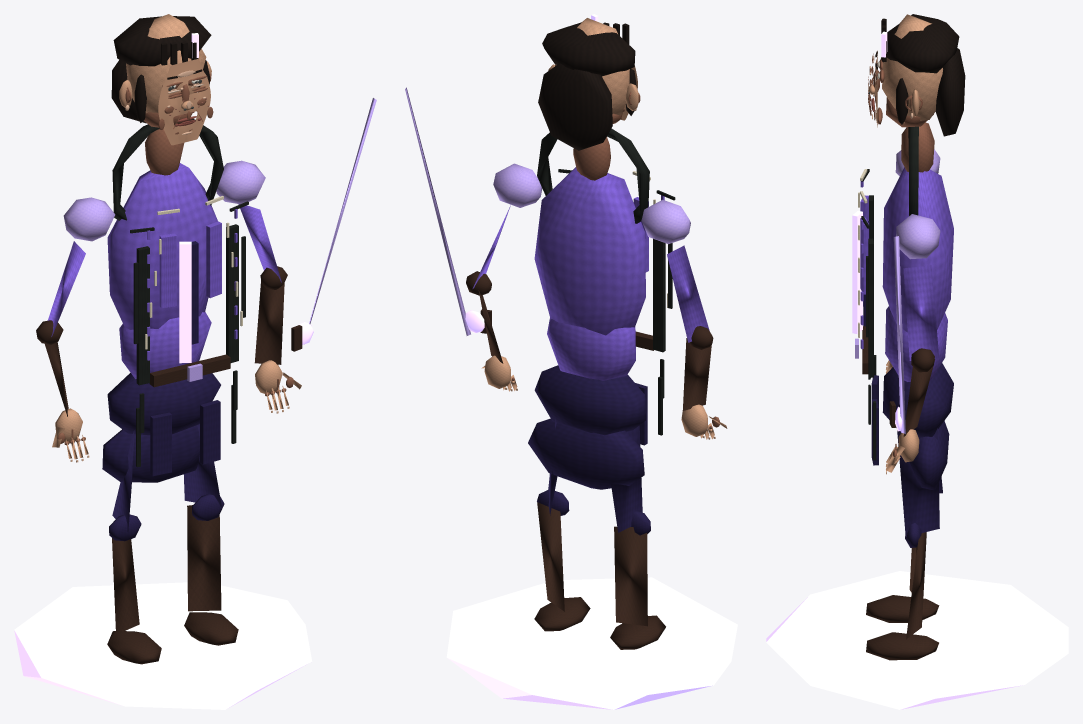
The model's file is violet-duelist-lod1.glb.
The picture shows the model from 3 angles, left to right: view 1: azimuth 30°, elevation 25°; view 2: azimuth 150°, elevation 25°; view 3: azimuth 270°, elevation 25°; orthographic projection.
Parts seen in each view (by area): view 1: violet-duelist_table_scale_base_lod1, violet-duelist_ribcage_lod1, violet-duelist_pelvis_lod1, violet-duelist_coat_tail_lod1, violet-duelist_right_shin_lod1, violet-duelist_abdomen_lod1, violet-duelist_hair_cap_lod1, violet-duelist_face_sculpt_surface_lod1, violet-duelist_head_lod1, violet-duelist_left_shin_lod1, violet-duelist_raised_collar_lod1, violet-duelist_right_forearm_lod1 (+25 smaller); view 2: violet-duelist_table_scale_base_lod1, violet-duelist_ribcage_lod1, violet-duelist_coat_tail_lod1, violet-duelist_pelvis_lod1, violet-duelist_back_hair_mass_lod1, violet-duelist_abdomen_lod1, violet-duelist_hair_cap_lod1, violet-duelist_left_shin_lod1, violet-duelist_right_shin_lod1, violet-duelist_left_upper_arm_lod1, violet-duelist_raised_collar_lod1, violet-duelist_left_shoulder_lod1 (+11 smaller); view 3: violet-duelist_table_scale_base_lod1, violet-duelist_ribcage_lod1, violet-duelist_hair_cap_lod1, violet-duelist_right_upper_arm_lod1, violet-duelist_pelvis_lod1, violet-duelist_head_lod1, violet-duelist_right_thigh_lod1, violet-duelist_back_hair_mass_lod1, violet-duelist_coat_tail_lod1, violet-duelist_right_boot_lod1, violet-duelist_right_shoulder_lod1, violet-duelist_abdomen_lod1 (+9 smaller).
Boxes of the visible parts, bbox=[...] form: violet-duelist_table_scale_base_lod1: bbox=[14, 582, 312, 709]; violet-duelist_ribcage_lod1: bbox=[107, 163, 217, 329]; violet-duelist_pelvis_lod1: bbox=[107, 373, 220, 435]; violet-duelist_coat_tail_lod1: bbox=[102, 425, 199, 482]; violet-duelist_right_shin_lod1: bbox=[187, 505, 221, 611]; violet-duelist_abdomen_lod1: bbox=[119, 312, 211, 378]; violet-duelist_hair_cap_lod1: bbox=[113, 16, 211, 66]; violet-duelist_face_sculpt_surface_lod1: bbox=[158, 59, 210, 145]; violet-duelist_head_lod1: bbox=[126, 14, 206, 113]; violet-duelist_left_shin_lod1: bbox=[112, 538, 139, 634]; violet-duelist_raised_collar_lod1: bbox=[112, 119, 223, 220]; violet-duelist_right_forearm_lod1: bbox=[254, 280, 284, 364]; violet-duelist_table_scale_base_lod1: bbox=[446, 577, 737, 709]; violet-duelist_ribcage_lod1: bbox=[534, 167, 645, 335]; violet-duelist_coat_tail_lod1: bbox=[528, 418, 644, 489]; violet-duelist_pelvis_lod1: bbox=[534, 365, 645, 435]; violet-duelist_back_hair_mass_lod1: bbox=[538, 63, 612, 150]; violet-duelist_abdomen_lod1: bbox=[547, 318, 635, 380]; violet-duelist_hair_cap_lod1: bbox=[542, 22, 635, 76]; violet-duelist_left_shin_lod1: bbox=[614, 526, 647, 626]; violet-duelist_right_shin_lod1: bbox=[537, 502, 564, 611]; violet-duelist_left_upper_arm_lod1: bbox=[667, 245, 709, 342]; violet-duelist_raised_collar_lod1: bbox=[537, 128, 649, 223]; violet-duelist_left_shoulder_lod1: bbox=[641, 199, 690, 244]; violet-duelist_table_scale_base_lod1: bbox=[766, 571, 1068, 709]; violet-duelist_ribcage_lod1: bbox=[882, 167, 953, 332]; violet-duelist_hair_cap_lod1: bbox=[886, 14, 959, 73]; violet-duelist_right_upper_arm_lod1: bbox=[903, 265, 939, 360]; violet-duelist_pelvis_lod1: bbox=[882, 363, 953, 437]; violet-duelist_head_lod1: bbox=[882, 14, 942, 123]; violet-duelist_right_thigh_lod1: bbox=[897, 428, 939, 536]; violet-duelist_back_hair_mass_lod1: bbox=[935, 48, 965, 136]; violet-duelist_coat_tail_lod1: bbox=[909, 421, 949, 489]; violet-duelist_right_boot_lod1: bbox=[866, 632, 938, 660]; violet-duelist_right_shoulder_lod1: bbox=[896, 214, 940, 259]; violet-duelist_abdomen_lod1: bbox=[885, 306, 947, 382].
Bounding box in the file's own units: 1.08 × 1.97 × 0.8602.
Materials: 17 (15 with a texture image).
